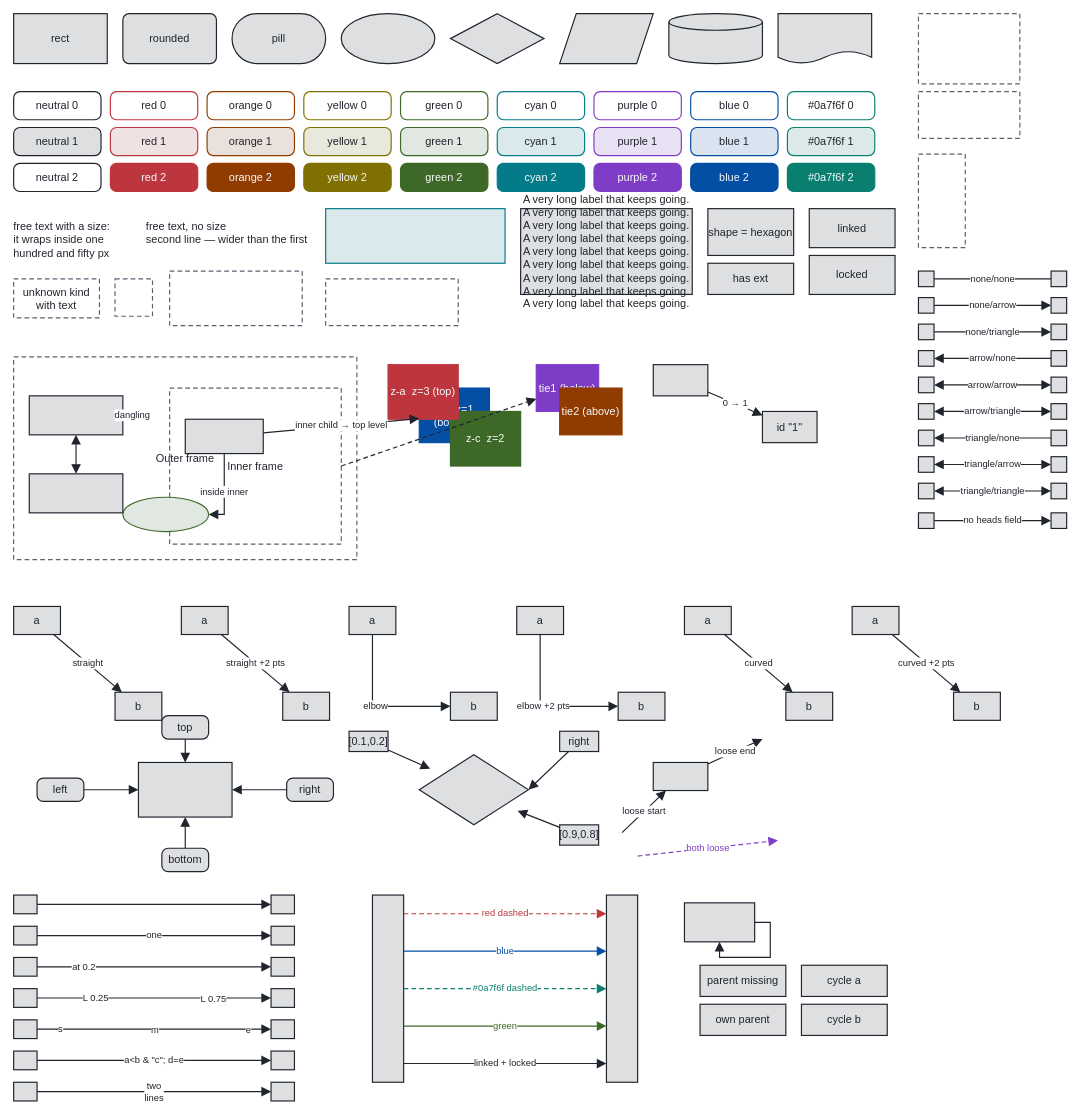
Some shapes in this 1081 by 1117 pixel diagram are drawn without their labels. Each missing label, with the centre of its shape:
<b>not bold</b> & "double" 'single' ; key=value; 100% &amp; <tag a="1"> tab: [415,235]
A in outer: [75,415]
B in inner: [223,436]
C at [-60,140]: [165,514]
cylinder: [715,38]
D in outer: [75,493]
diamond: [497,38]
diamond hub: [473,789]
document: [824,38]
ellipse: [387,38]
hub: [185,789]
id "0": [680,380]
node: [680,776]
parallelogram: [606,38]
self loop: [719,922]
